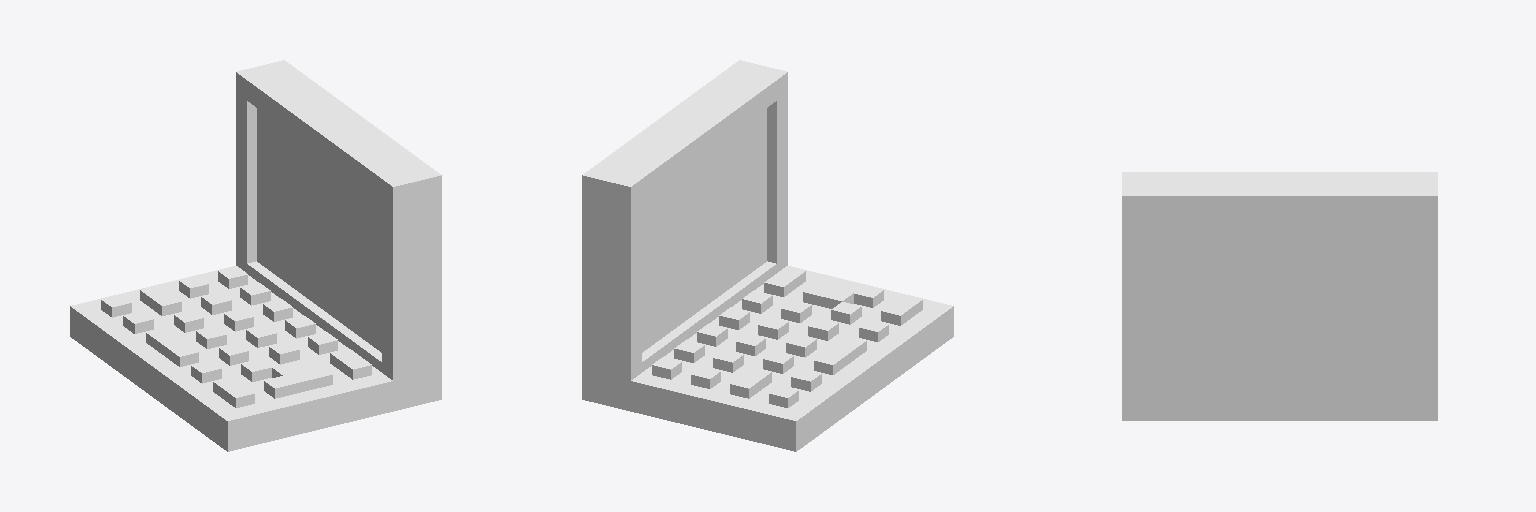
The model's file is note_pc.obj.
3 renders of one model, left to right at view 1: azimuth 30°, elevation 25°; view 2: azimuth 150°, elevation 25°; view 3: azimuth 270°, elevation 25°, orthographic.
Visible parts, largest first — view 1: object 1; view 2: object 1; view 3: object 1.
Boxes of the visible parts, x1=… form: object 1: x1=70, y1=60, x2=441, y2=451; object 1: x1=582, y1=60, x2=953, y2=451; object 1: x1=1122, y1=172, x2=1437, y2=420.
Bounding box in the file's own units: 2.2 × 2.2 × 2.8.